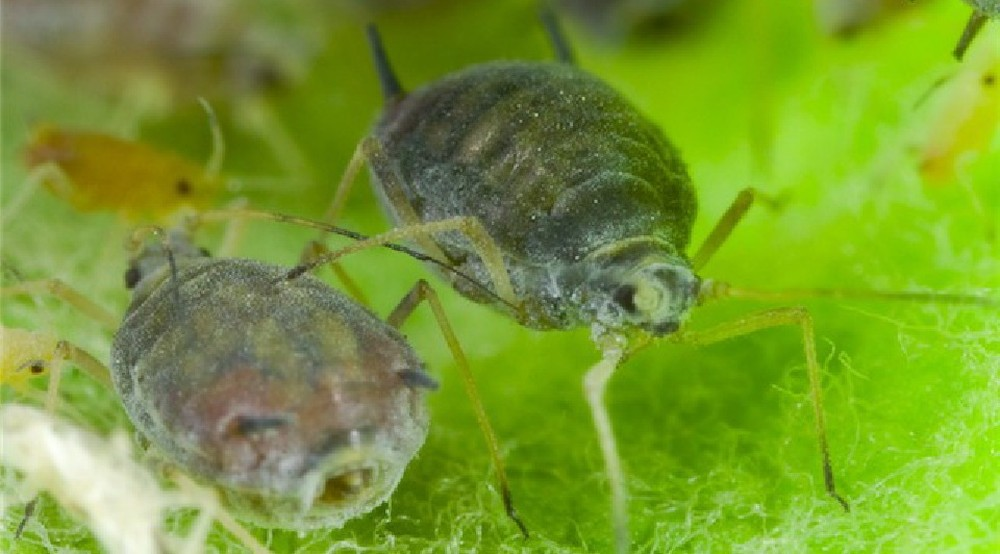Pulgon: (325, 33, 884, 517), (19, 211, 544, 541), (14, 110, 275, 262)
